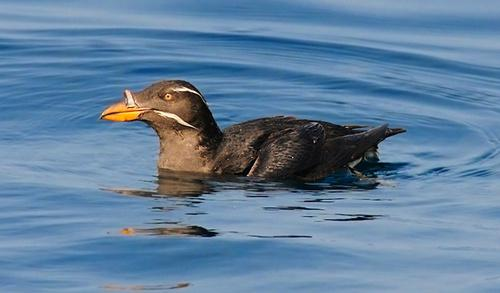008.Rhinoceros_Auklet: (99, 78, 413, 187)
